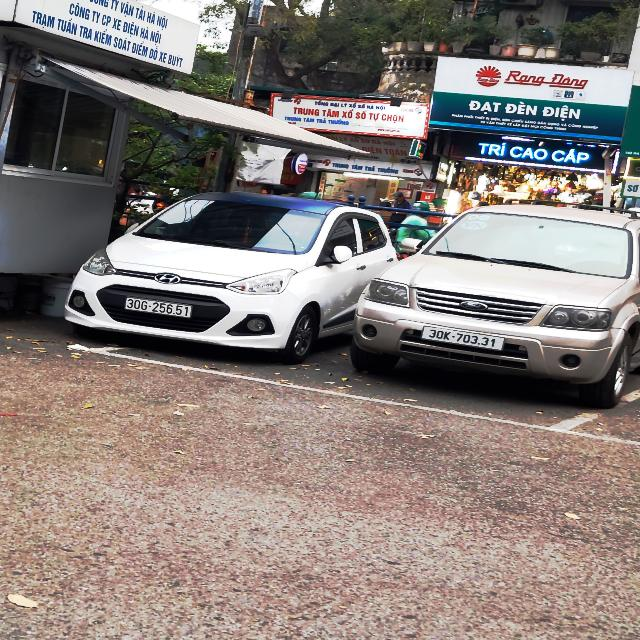license_plate: (420, 326, 508, 352), (123, 296, 195, 320)
